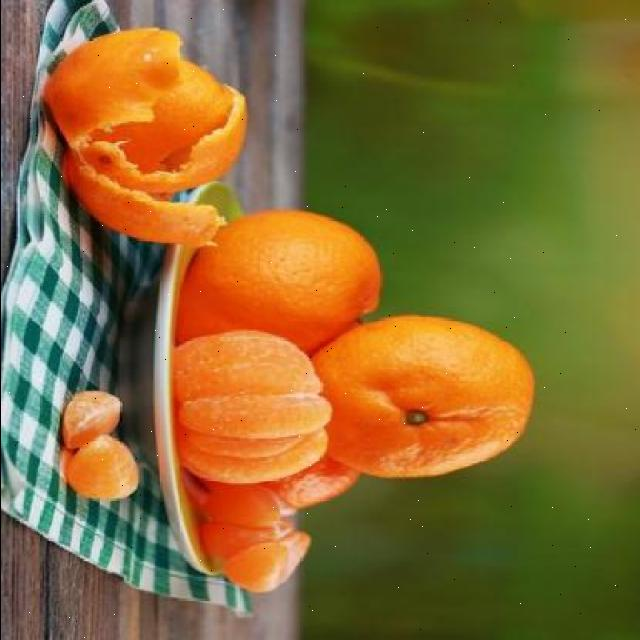Orange: (314, 312, 537, 478), (177, 208, 385, 354)
